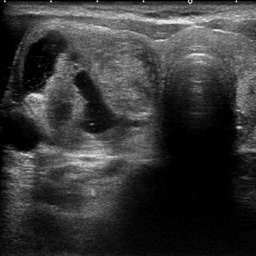mass: (20, 26, 158, 146)
